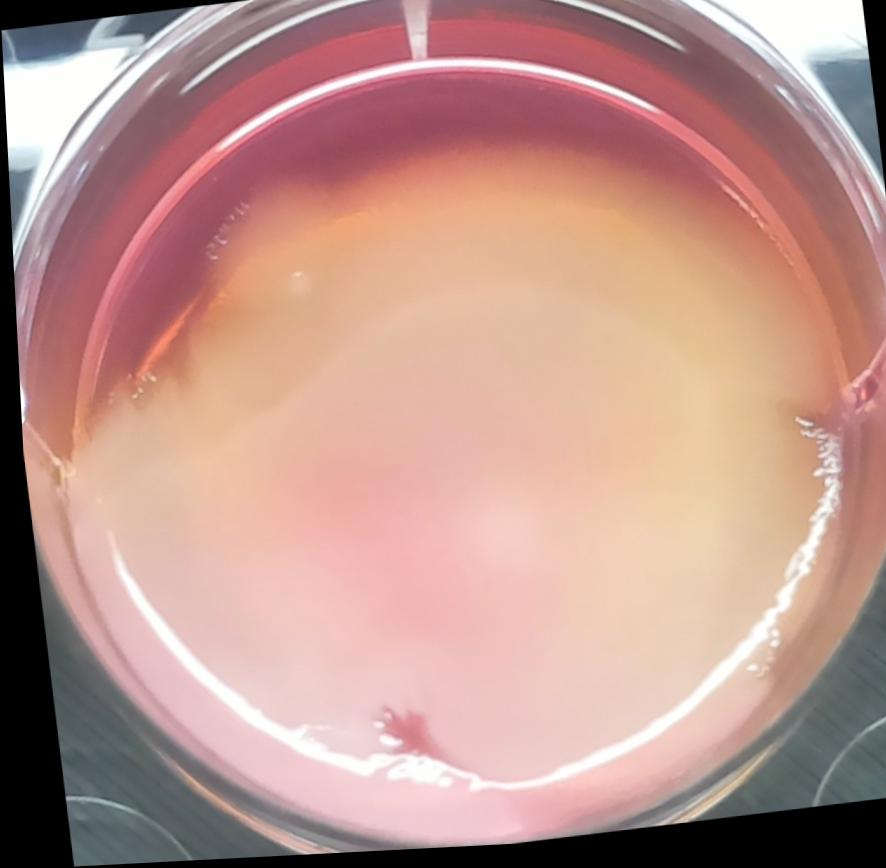vproteolyticus: (4, 72, 886, 868)
